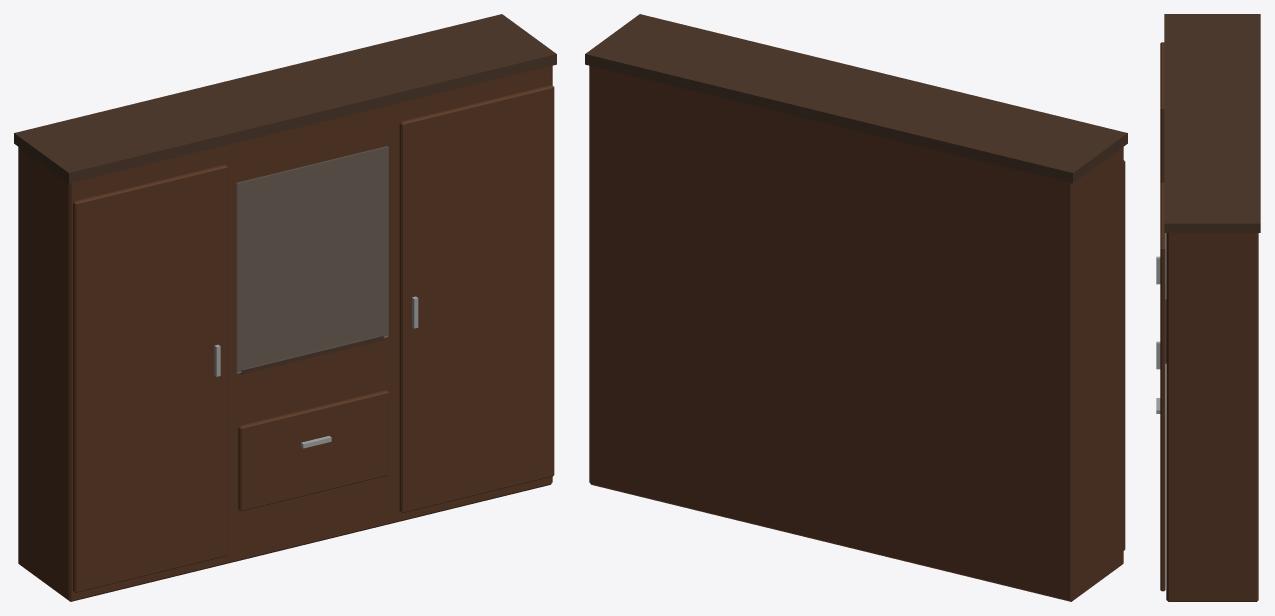
Rendered from stenka.glb.
The picture shows the model from 3 angles, left to right: view 1: azimuth 30°, elevation 25°; view 2: azimuth 150°, elevation 25°; view 3: azimuth 270°, elevation 25°; orthographic projection. The views are drawn at different scales.
Parts seen in each view (by area): view 1: Stenka, anim_door_L, anim_door_R, anim_drawer_1; view 2: Stenka, anim_door_R; view 3: Stenka, anim_door_L, anim_door_R.
Part boxes in pixels (left/top/right/bottom): Stenka: left=14, top=14, right=556, bottom=601; anim_door_L: left=399, top=85, right=554, bottom=512; anim_door_R: left=73, top=164, right=227, bottom=592; anim_drawer_1: left=238, top=390, right=388, bottom=511; Stenka: left=585, top=14, right=1127, bottom=601; anim_door_R: left=1123, top=160, right=1125, bottom=550; Stenka: left=1164, top=14, right=1260, bottom=601; anim_door_L: left=1156, top=182, right=1165, bottom=591; anim_door_R: left=1156, top=42, right=1164, bottom=284.
Bounding box in the file's own units: 2.42 × 2.05 × 0.51.
